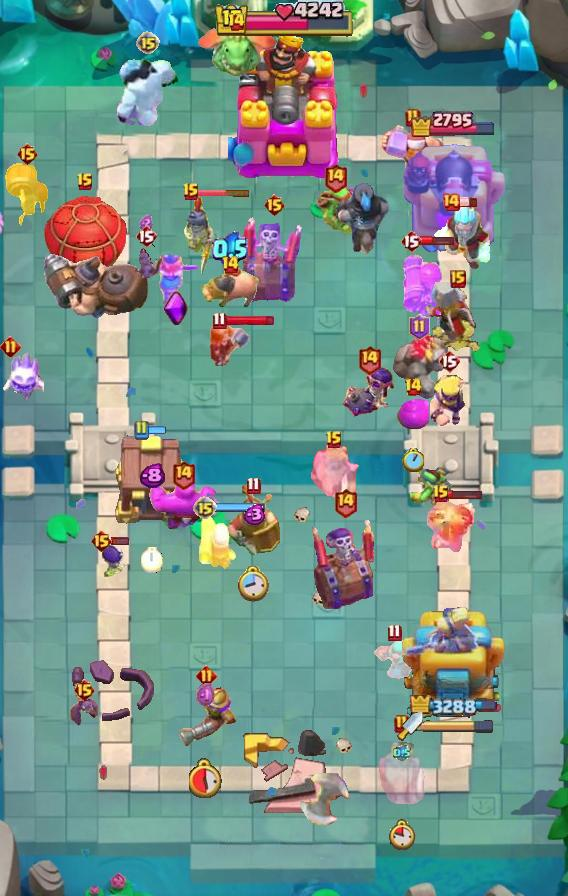axe: (296, 773, 362, 825)
bar: (224, 314, 275, 327), (214, 502, 266, 513), (197, 188, 251, 197), (448, 489, 483, 500), (420, 235, 455, 246), (147, 425, 166, 436), (459, 197, 478, 208), (111, 536, 130, 546)
bar-level: (333, 487, 358, 518), (171, 459, 196, 490), (357, 344, 382, 375), (323, 162, 348, 193), (193, 496, 217, 520), (136, 31, 160, 55), (73, 678, 96, 702), (90, 529, 113, 553), (263, 193, 286, 217), (16, 142, 39, 166), (409, 314, 430, 340), (438, 349, 460, 373), (400, 229, 422, 253), (135, 224, 157, 248), (196, 665, 217, 686), (0, 336, 21, 357), (441, 192, 461, 212), (404, 377, 423, 397), (221, 255, 240, 275), (227, 12, 246, 32), (432, 484, 450, 504), (325, 430, 343, 450), (182, 182, 200, 202), (76, 172, 94, 192), (394, 714, 410, 734), (133, 420, 149, 440), (405, 108, 421, 128), (450, 270, 466, 288), (387, 623, 402, 642), (246, 476, 261, 495), (212, 311, 227, 330)
barbarian-evolution: (424, 374, 474, 428)
bat: (128, 244, 164, 278), (67, 695, 101, 727)
bomber-evolution: (341, 364, 397, 420)
cannoneer-tower: (399, 138, 507, 256)
clock: (189, 758, 223, 798), (237, 566, 269, 603), (389, 819, 416, 850), (141, 547, 163, 573), (402, 448, 424, 472)
dagger-duchess-tower: (399, 607, 507, 731)
dagger-duchess-tower-bar: (423, 719, 495, 733)
elixir: (212, 231, 248, 267), (139, 463, 165, 489), (196, 682, 217, 708), (241, 504, 266, 525), (393, 745, 411, 761), (139, 214, 153, 232)
elixir-golem-mid: (149, 479, 217, 531)
elixir-golem-small: (397, 399, 429, 429)
evolution-symbol: (163, 290, 189, 326)
firecracker: (197, 513, 239, 571)
firecracker-evolution: (399, 241, 447, 321)
golemite: (387, 335, 451, 403)
guard: (184, 194, 218, 276)
ice-spirit-evolution: (0, 348, 44, 402)
ice-wizard: (431, 201, 497, 271)
king-tower: (228, 29, 340, 181)
king-tower-bar: (213, 0, 355, 40)
lumberjack: (379, 123, 447, 179)
musketeer: (174, 684, 238, 750)
princess: (425, 499, 479, 553)
rascal-girl: (371, 638, 417, 680)
royal-ghost: (306, 440, 362, 506), (375, 739, 429, 805)
royal-hog: (201, 266, 259, 310)
royal-recruit: (226, 485, 280, 557)
skeleton-evolution: (100, 544, 126, 580)
spear-goblin: (405, 465, 453, 507), (316, 183, 354, 233)
tower-bar: (409, 109, 497, 137), (410, 695, 497, 718)
valkyrie: (153, 253, 201, 307), (208, 323, 252, 373)
wall-breaker: (3, 162, 51, 228)
